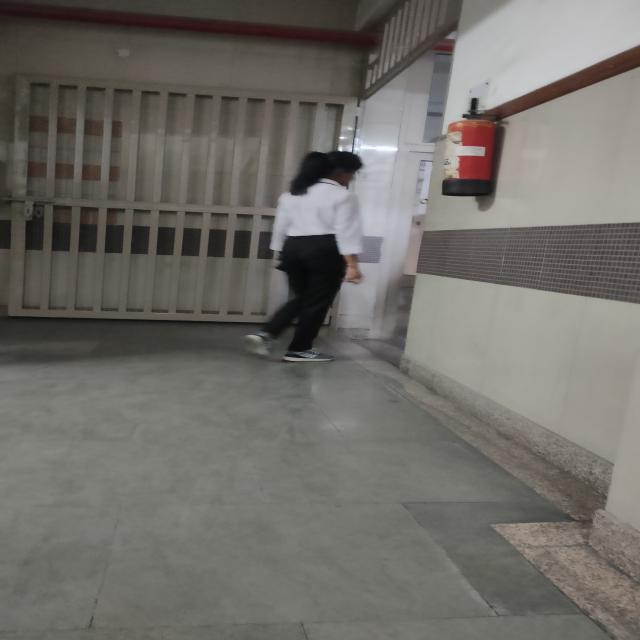unsafe: (240, 150, 370, 367)
